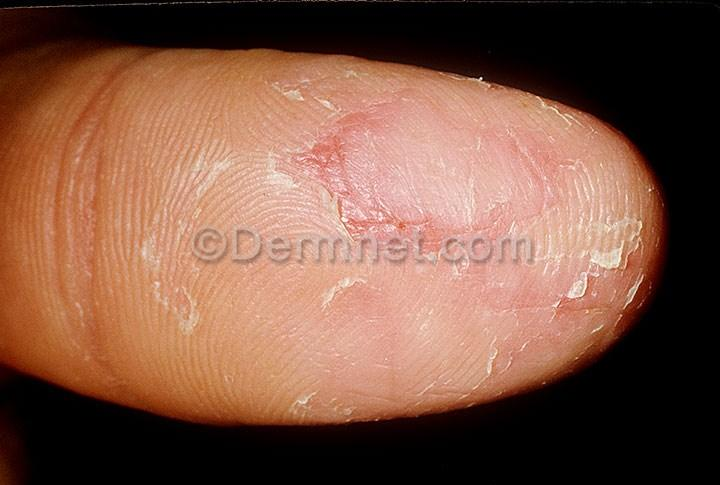Eczema: (234, 136, 434, 245), (557, 202, 645, 376)
